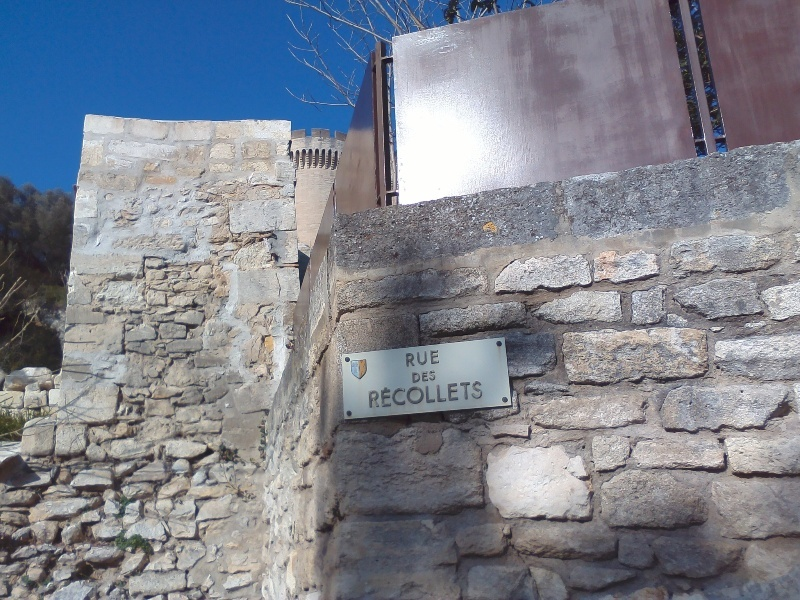text: (369, 378, 384, 409), (385, 378, 400, 409), (401, 378, 416, 409), (417, 378, 432, 409), (433, 378, 448, 409), (449, 378, 464, 409), (465, 378, 480, 409), (417, 349, 432, 368), (404, 349, 416, 368), (417, 370, 432, 384), (433, 349, 440, 368), (481, 378, 484, 409), (412, 370, 416, 384), (433, 370, 437, 384)
